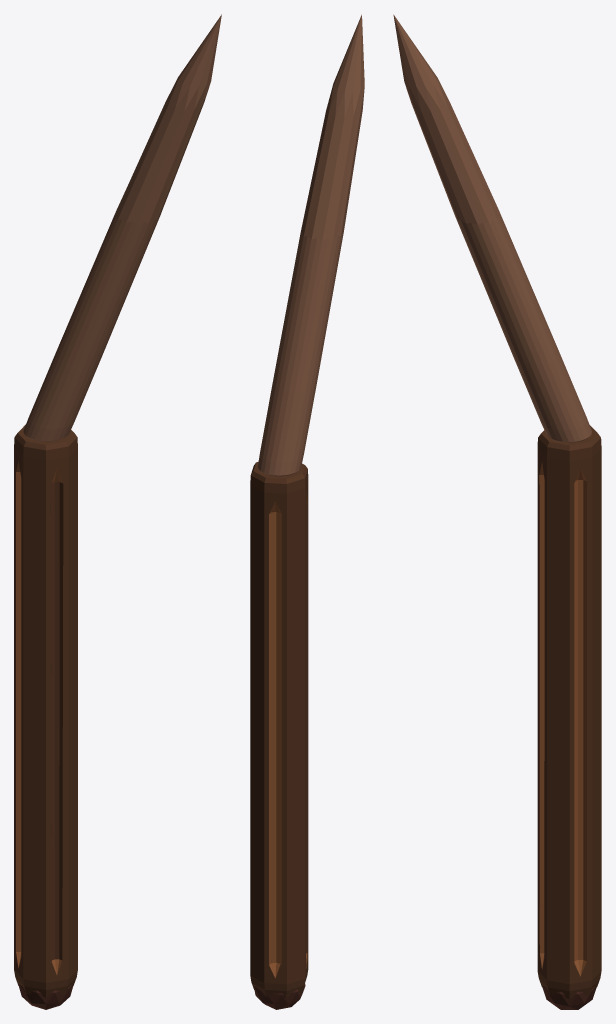
File: Wand 590.glb
3 views of the same model, side by side, from view 1: azimuth 90°, elevation 25°; view 2: azimuth 150°, elevation 25°; view 3: azimuth 270°, elevation 25° (orthographic). The views are drawn at different scales.
Visible parts, largest first — view 1: GeneratedWand; view 2: GeneratedWand; view 3: GeneratedWand.
Part boxes in pixels (x1,y1,x2,y2): GeneratedWand: [14, 14, 221, 1009]; GeneratedWand: [250, 14, 364, 1009]; GeneratedWand: [393, 14, 601, 1009].
Bounding box in the file's own units: 0.0289 × 0.4951 × 0.0939.
